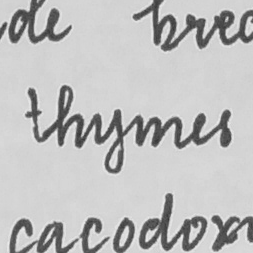e: (187, 110, 212, 147)
h: (54, 83, 86, 150)
m: (131, 113, 185, 150)
s: (214, 107, 236, 149)
t: (23, 85, 49, 144)
y: (90, 106, 128, 175)
